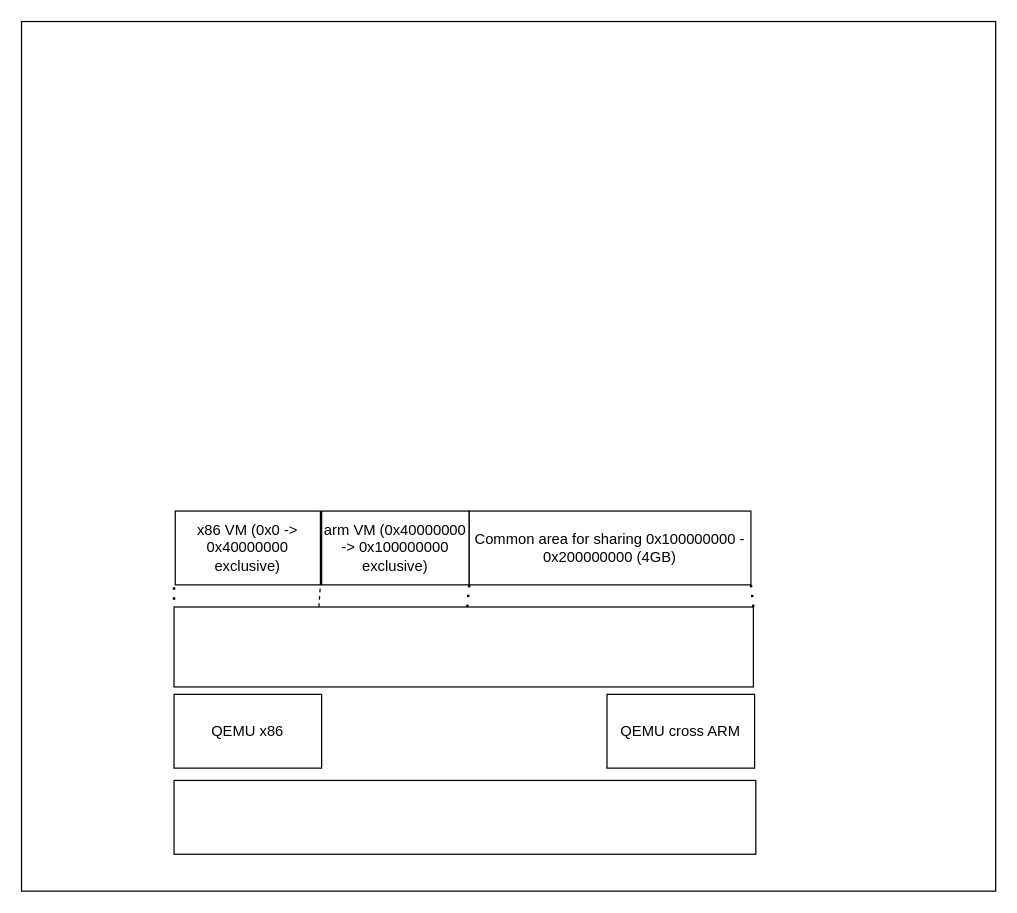
Image size: 1017x913. Some labels were removed from this diagram. The shapes that lost their labels are listed below. From the top down, each one's centre as x and y in pixels, then its label:
At [463,646]: "8GB of host memory mapped as device RAM for both VMs".
At [464,816]: "Host userspace".
